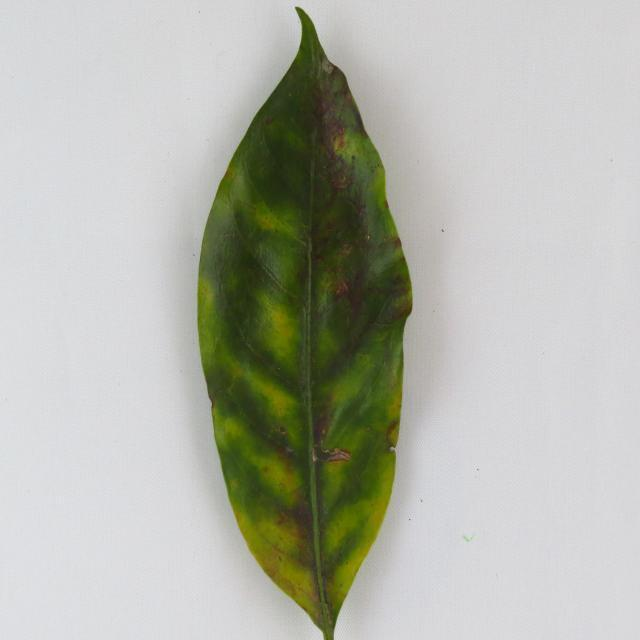DeficienciaNutricional-Potasio: (198, 8, 412, 638)
